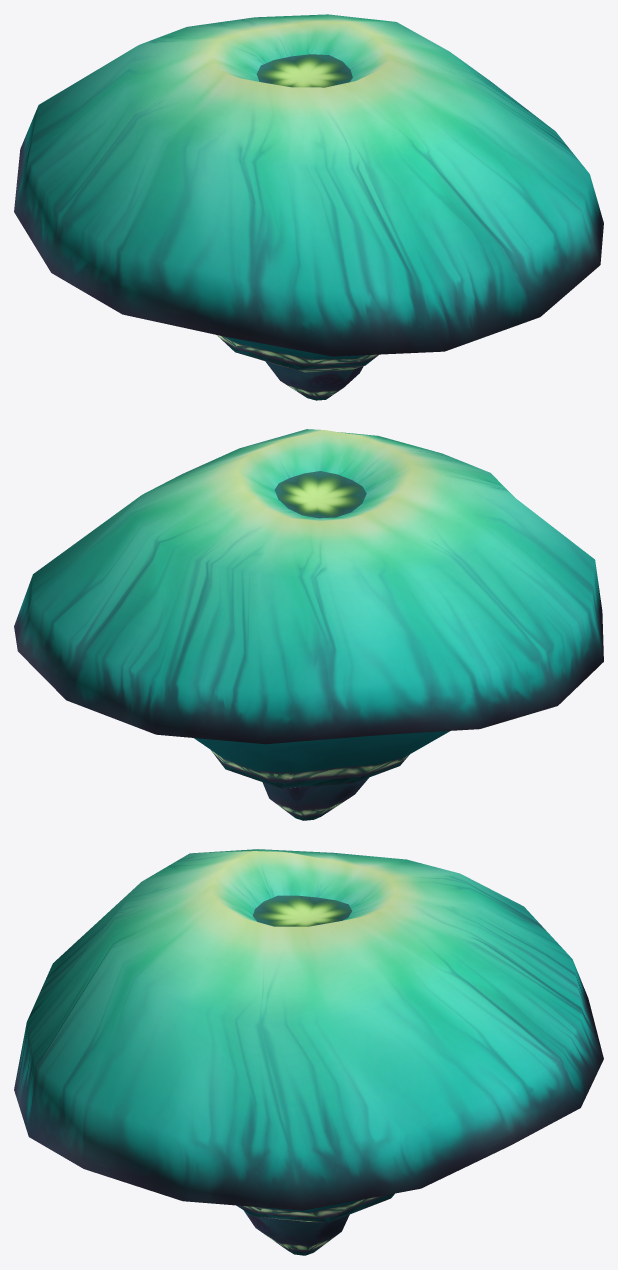
File: Bio_farm_01_b.fbx
3 renders of one model, top to bottom at view 1: azimuth 30°, elevation 25°; view 2: azimuth 150°, elevation 25°; view 3: azimuth 270°, elevation 25°, orthographic. The views are drawn at different scales.
Parts seen in each view (by area): view 1: Bio_farm_01_b; view 2: Bio_farm_01_b; view 3: Bio_farm_01_b.
Part boxes in pixels (<box>): Bio_farm_01_b: <box>14,14,603,400</box>; Bio_farm_01_b: <box>14,429,603,820</box>; Bio_farm_01_b: <box>14,849,603,1255</box>.
Bounding box in the file's own units: 4.34 × 2.88 × 4.29.
